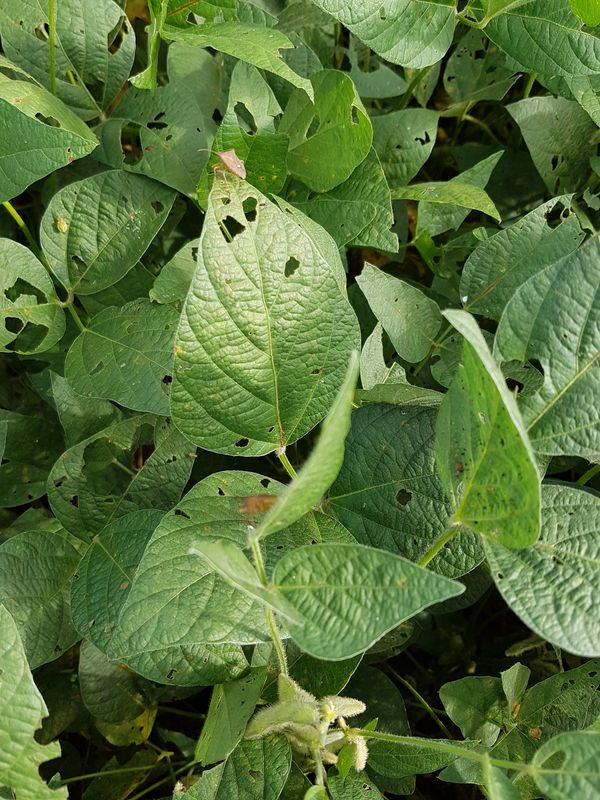Euschistus_heros_adulto: (196, 139, 249, 197)
Euschistus_heros_ninfa: (52, 214, 71, 235)
